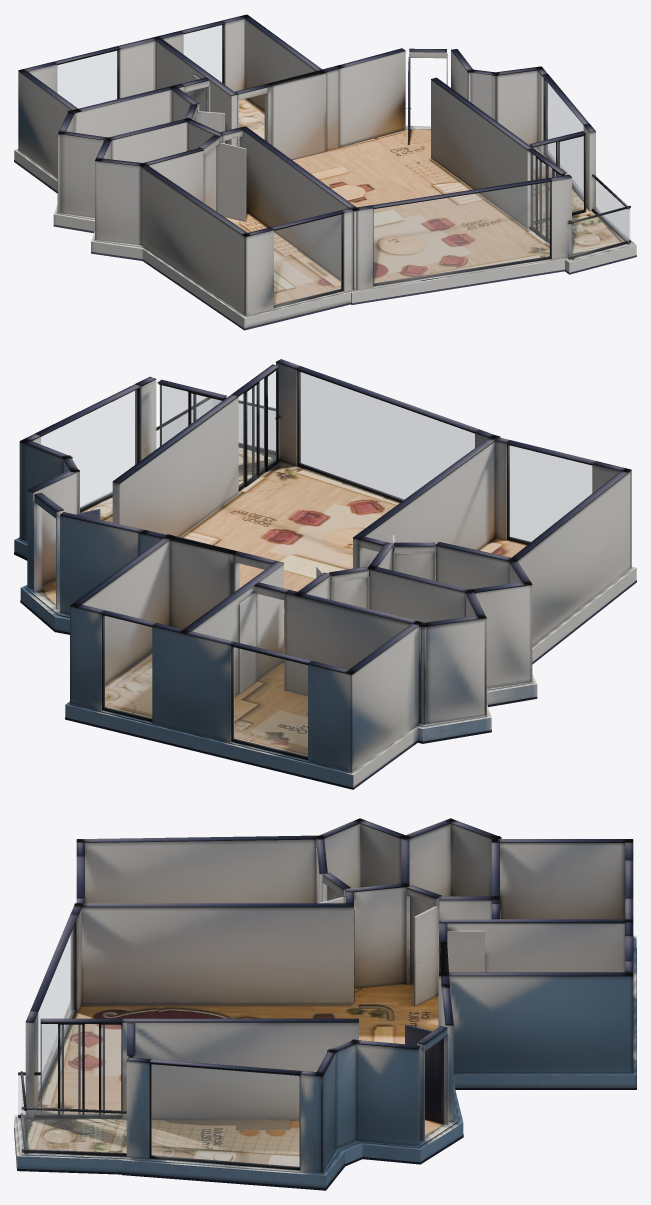
The picture shows the model from 3 angles, top to bottom: view 1: azimuth 30°, elevation 25°; view 2: azimuth 150°, elevation 25°; view 3: azimuth 270°, elevation 25°; orthographic projection. The views are drawn at different scales.
Visible parts, largest first — view 1: plan, glass3_m, glass2_m, glass0_m, glass6_m, railg1_m, glass5_m, glass1_m, railg0_m, glass4_m; view 2: plan, glass3_m, glass0_m, glass6_m, glass2_m, glass1_m, glass4_m, glass5_m, railg1_m, railg0_m; view 3: plan, glass6_m, glass4_m, railg0_m, glass3_m.
Part boxes in pixels (x1=…): plan: x1=14, y1=14, x2=636, y2=330; glass3_m: x1=374, y1=182, x2=549, y2=283; glass2_m: x1=274, y1=215, x2=341, y2=305; glass0_m: x1=57, y1=51, x2=117, y2=108; glass6_m: x1=545, y1=80, x2=583, y2=196; railg1_m: x1=569, y1=208, x2=630, y2=256; glass5_m: x1=534, y1=136, x2=583, y2=212; glass1_m: x1=184, y1=25, x2=222, y2=82; railg0_m: x1=593, y1=177, x2=628, y2=241; glass4_m: x1=530, y1=152, x2=560, y2=239; plan: x1=14, y1=359, x2=636, y2=789; glass3_m: x1=299, y1=372, x2=474, y2=499; glass0_m: x1=233, y1=647, x2=307, y2=756; glass6_m: x1=41, y1=390, x2=136, y2=508; glass2_m: x1=509, y1=445, x2=591, y2=541; glass1_m: x1=104, y1=616, x2=151, y2=718; glass4_m: x1=239, y1=371, x2=275, y2=487; glass5_m: x1=159, y1=385, x2=221, y2=446; railg1_m: x1=213, y1=399, x2=275, y2=450; railg0_m: x1=156, y1=399, x2=211, y2=448; plan: x1=14, y1=818, x2=636, y2=1190; glass6_m: x1=151, y1=1064, x2=299, y2=1167; glass4_m: x1=41, y1=1024, x2=120, y2=1114; railg0_m: x1=22, y1=1110, x2=126, y2=1153; glass3_m: x1=38, y1=926, x2=74, y2=1092.
Bounding box in the file's own units: 13.1 × 2.62 × 13.14.
2 materials, 1 textured.
